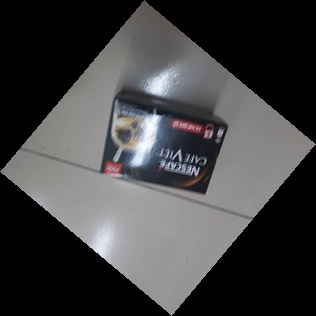CF Viet: (98, 88, 229, 201)
